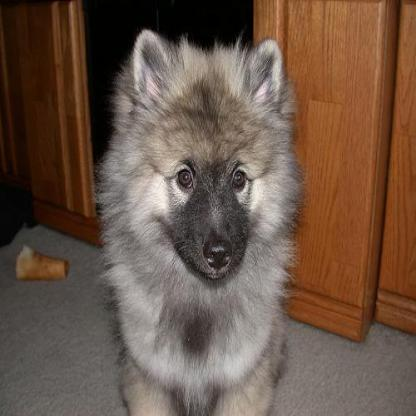keeshond: (90, 24, 304, 413)
